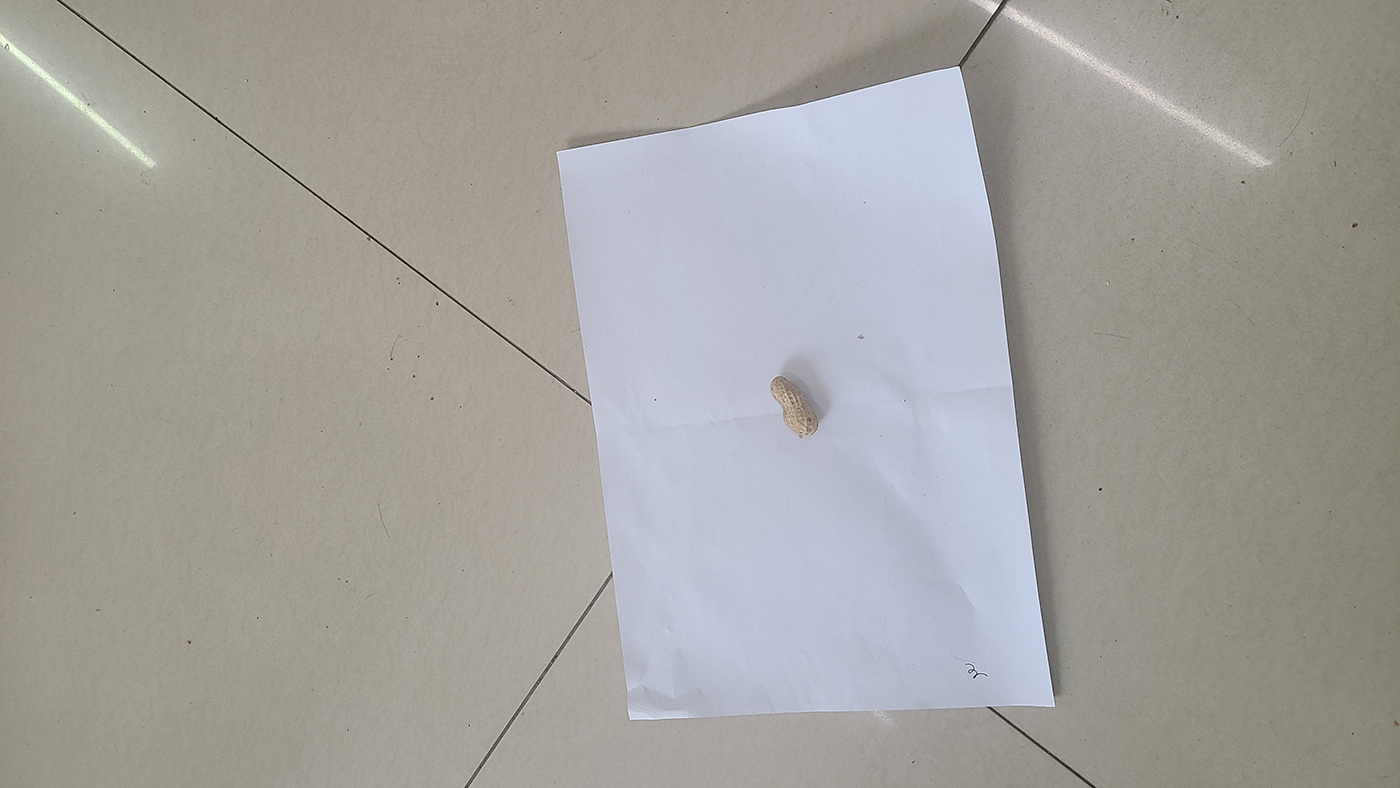h: (770, 375, 821, 436)
